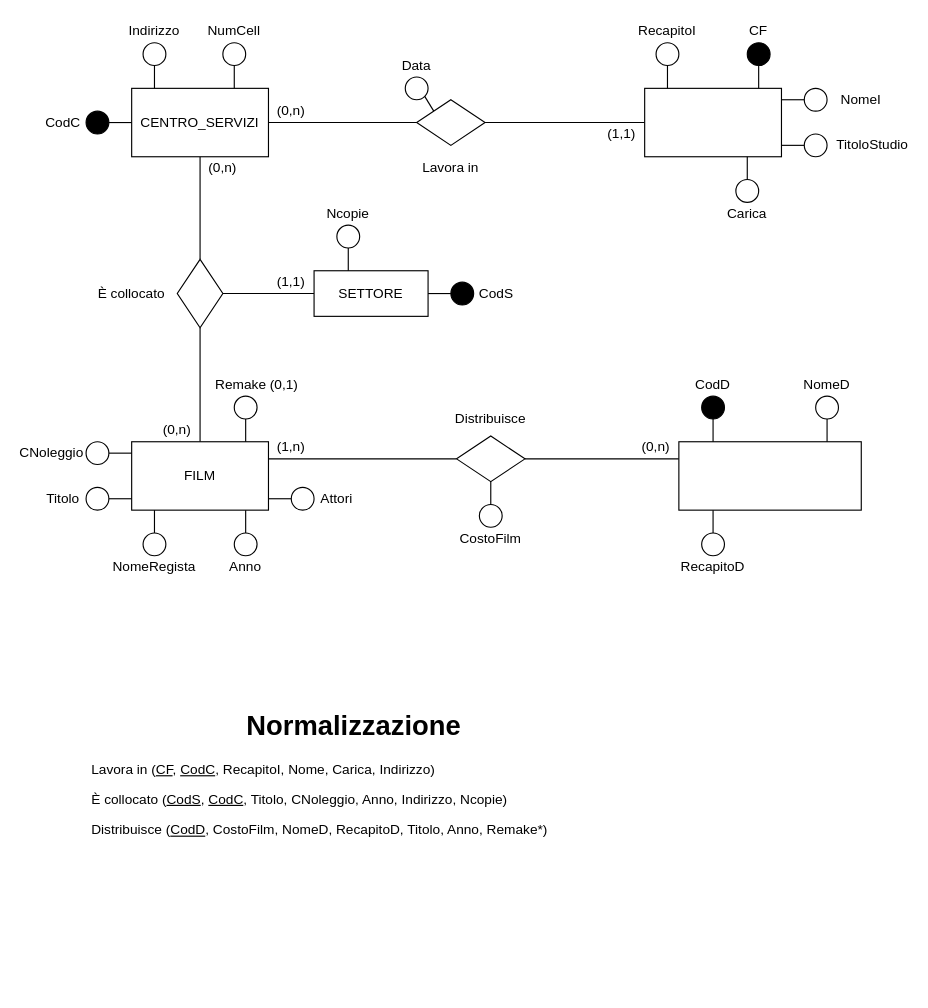
Some shapes in this 928 by 1008 pixel diagram are drawn without their labels. Each missing label, with the centre of its shape:
"CENTRO_DISTRIBUZIONE" belongs at (769,475).
"IMPIEGATO" belongs at (712,122).
